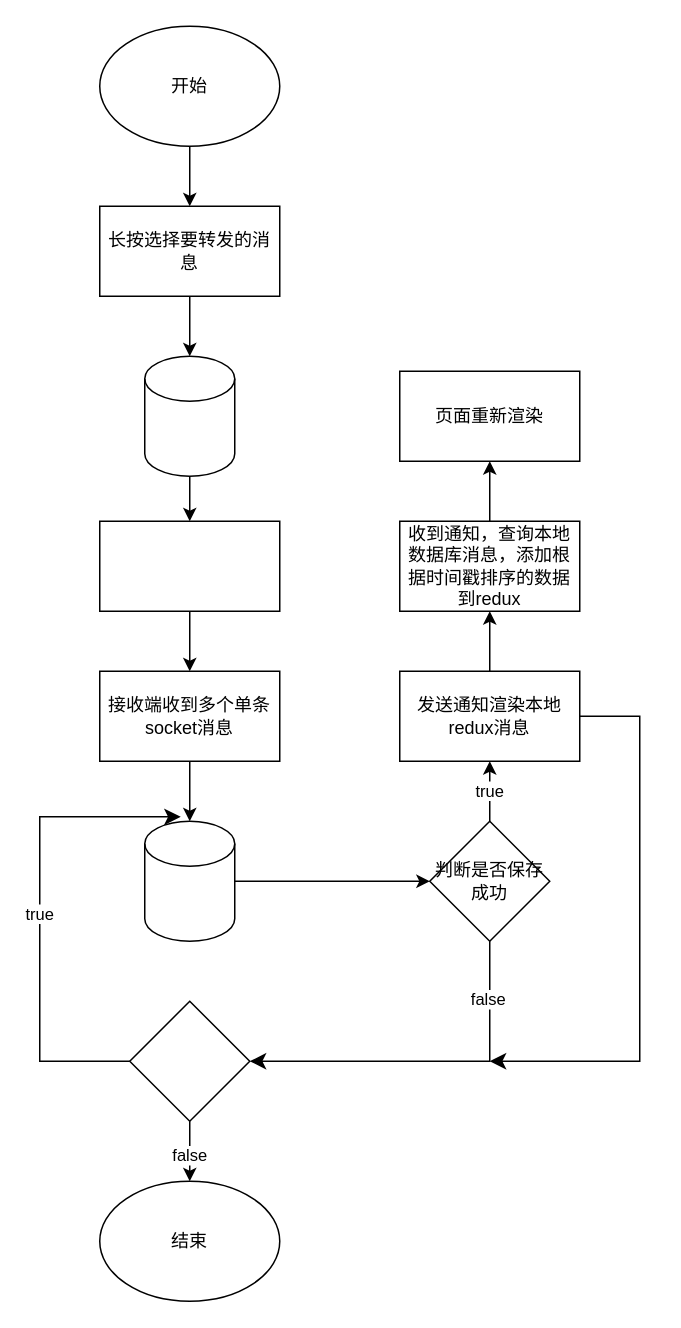
Image size: 681x1328. Some labels were removed from this diagram. The shapes that lost their labels are listed below. From the top down, each one's centre as x and y in pixels, then its label:
the point at 189,415: 保存转发数据到数据库
the point at 189,565: 消息已数组形式发送socket
the point at 189,880: 保存单条转发消息到数据库
the point at 189,1060: 是否还有未保存的消息
